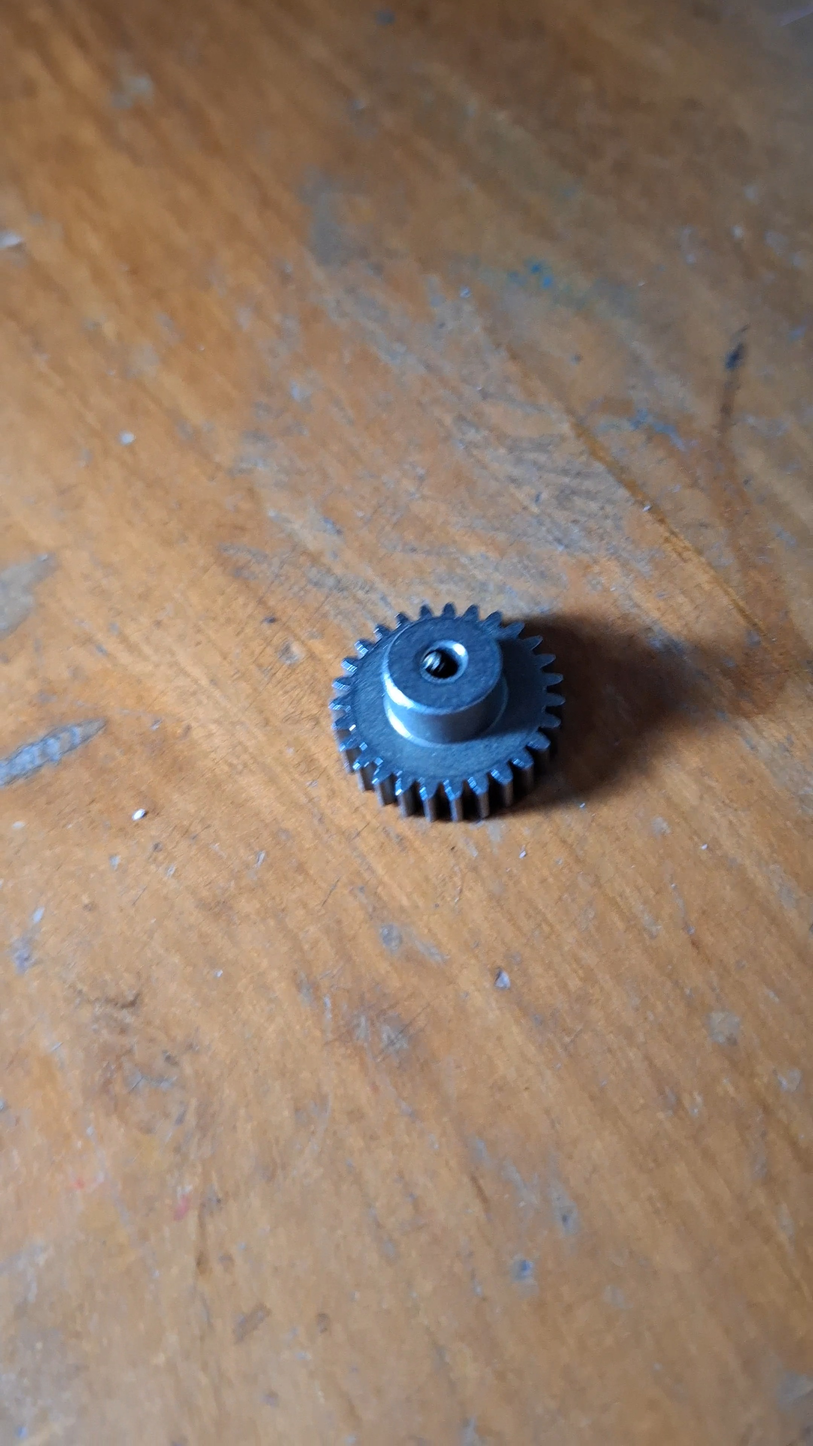spur gear: (341, 624, 565, 832)
